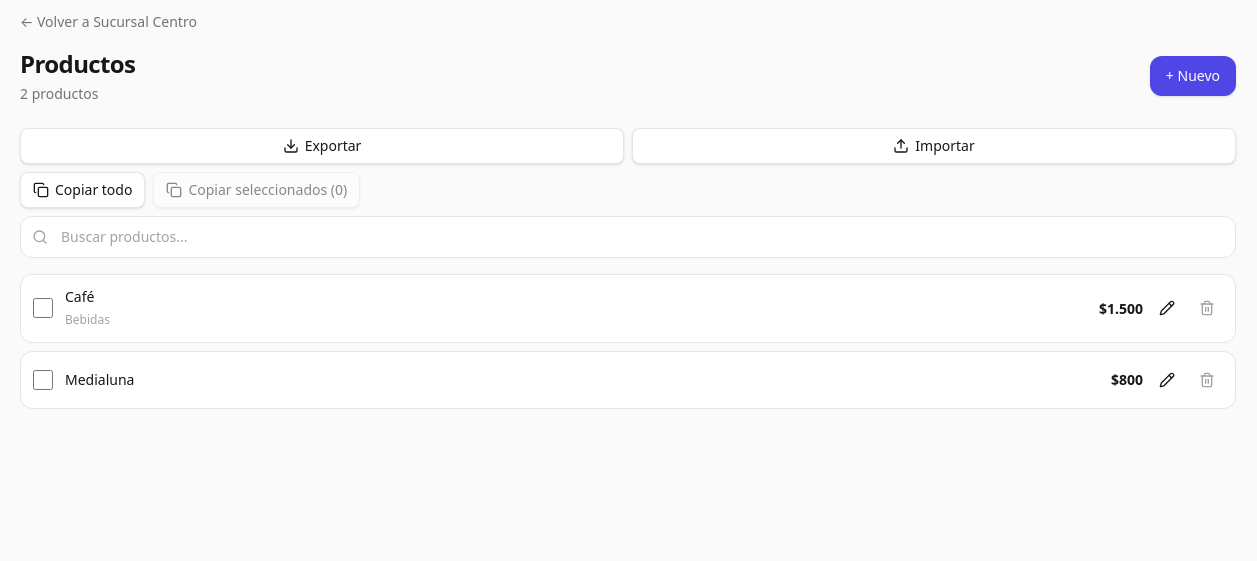
Scenario: ProductList › should show no results message when search has no matches
Expected: the text "Café" is shown, [65,287,94,306]
In the field with placeholder "Buscar productos...": (628, 237) [20,216,1236,258], type "zzzz"
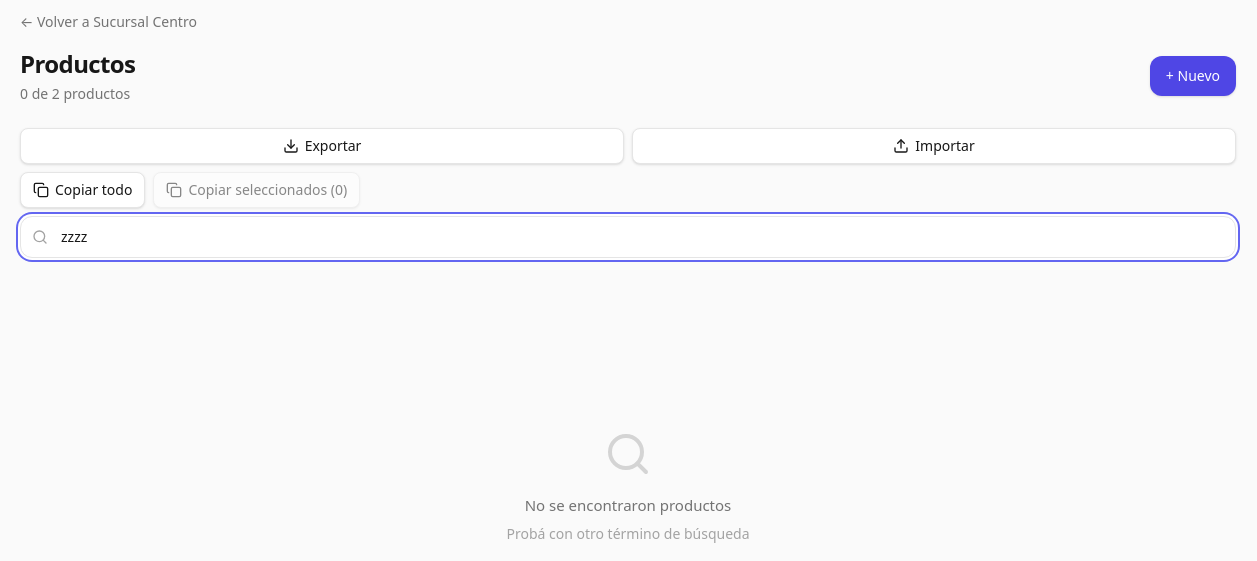
Now the text "No se encontraron productos" is shown, box [525,494,731,516]
Now the text "Probá con otro término de búsqueda" is shown, box [506,524,750,544]
